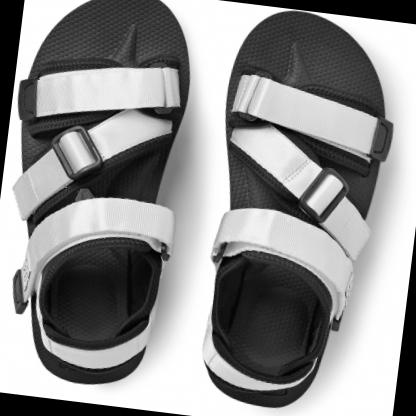ankle: (330, 281, 342, 298), (31, 245, 47, 257)
heel: (79, 368, 95, 382), (244, 389, 257, 402)
left_foot: (1, 1, 200, 392)
pinky: (50, 31, 64, 46), (366, 75, 380, 90)
right_foot: (190, 4, 401, 416)
toe: (163, 22, 180, 39), (245, 38, 261, 54)
